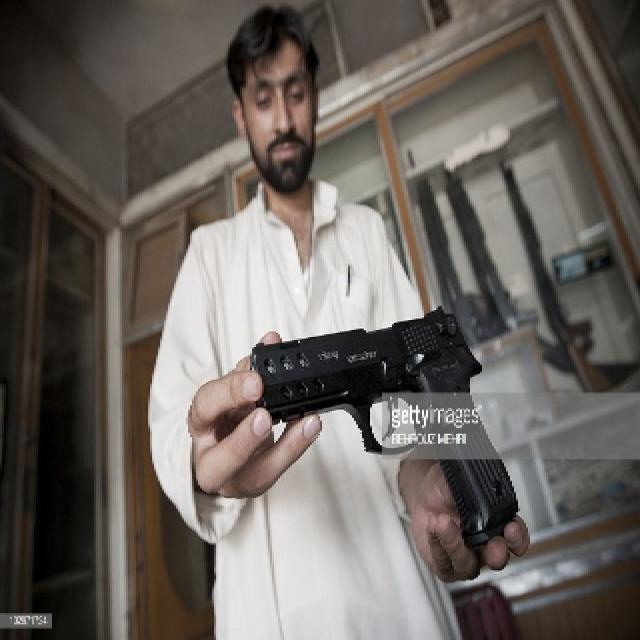weapon: (248, 302, 520, 548)
